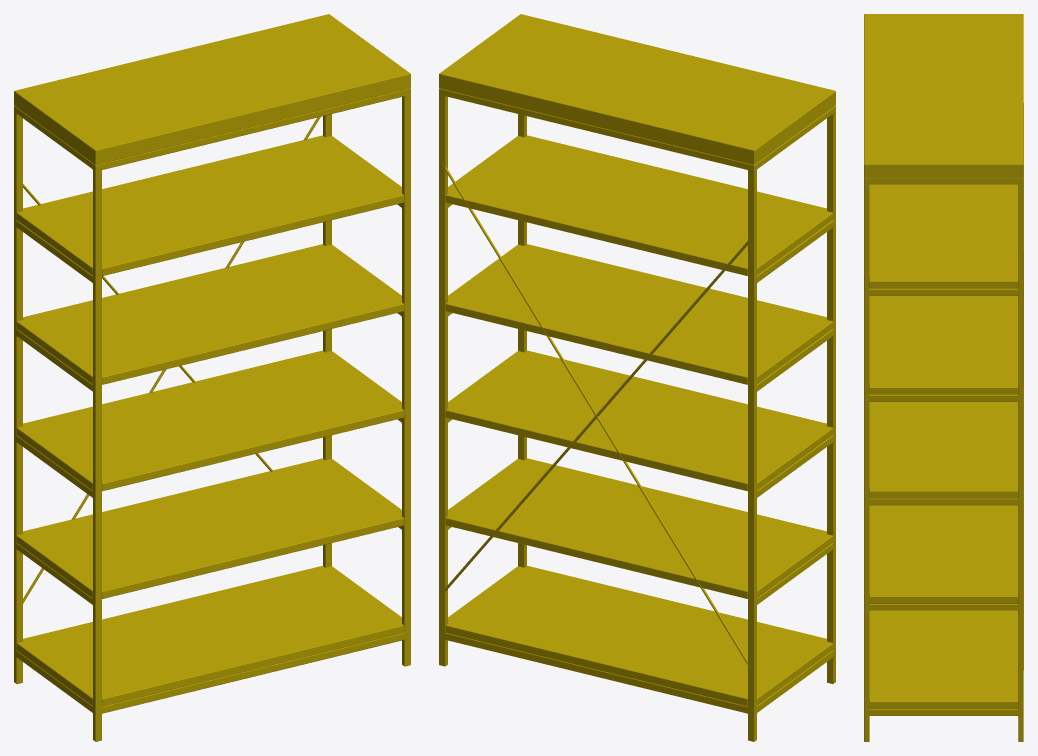
The model's file is estanteria.glb.
The picture shows the model from 3 angles, left to right: view 1: azimuth 30°, elevation 25°; view 2: azimuth 150°, elevation 25°; view 3: azimuth 270°, elevation 25°; orthographic projection. The views are drawn at different scales.
Visible parts, largest first — view 1: Bookcase.001; view 2: Bookcase.001; view 3: Bookcase.001.
Boxes of the visible parts, x1,y1,x2,y2 form: Bookcase.001: (14,14,410,741); Bookcase.001: (439,14,835,741); Bookcase.001: (864,14,1023,741).
Bounding box in the file's own units: 1.24 × 2.21 × 0.555.
